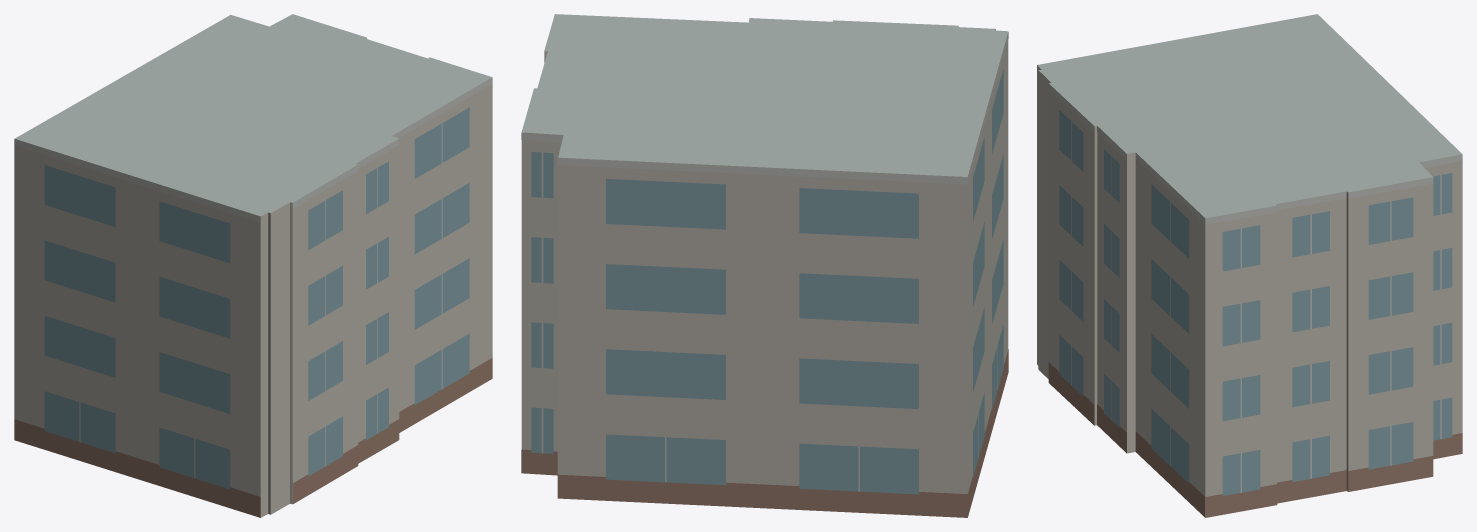
Rendered from survey-upis-32809062.glb.
3 renders of one model, left to right at view 1: azimuth 30°, elevation 25°; view 2: azimuth 150°, elevation 25°; view 3: azimuth 270°, elevation 25°, orthographic. The views are drawn at different scales.
Parts seen in each view (by area): view 1: survey-upis-32809062.tmp; view 2: survey-upis-32809062.tmp; view 3: survey-upis-32809062.tmp.
Boxes of the visible parts, x1,y1,x2,y2 form: survey-upis-32809062.tmp: (14, 14, 492, 517); survey-upis-32809062.tmp: (521, 14, 1008, 517); survey-upis-32809062.tmp: (1037, 14, 1462, 517).
Bounding box in the file's own units: 16.36 × 11.17 × 14.4.
